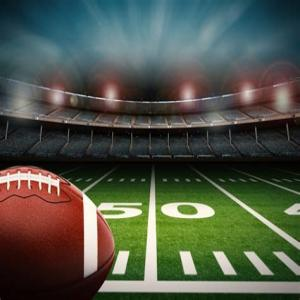Rugby: (0, 165, 115, 300)
